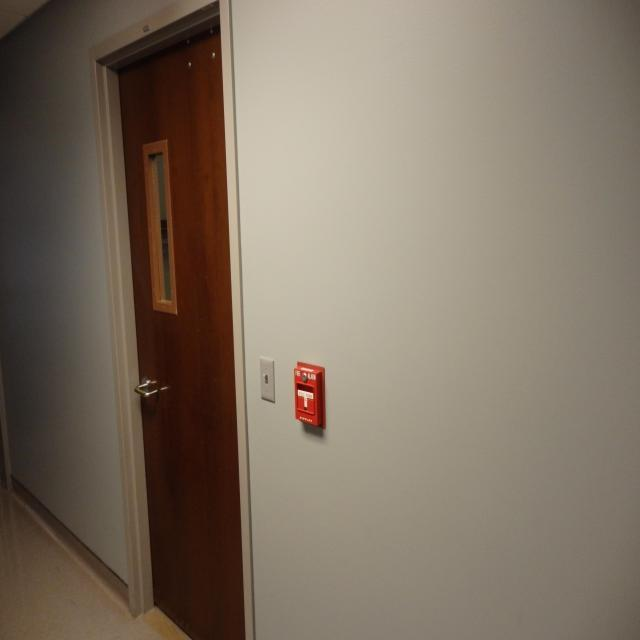door: (85, 6, 285, 640)
